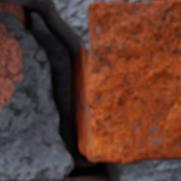brick: (79, 0, 180, 163), (0, 24, 23, 113), (0, 177, 112, 180), (0, 5, 18, 19)
crack: (0, 2, 111, 178)
